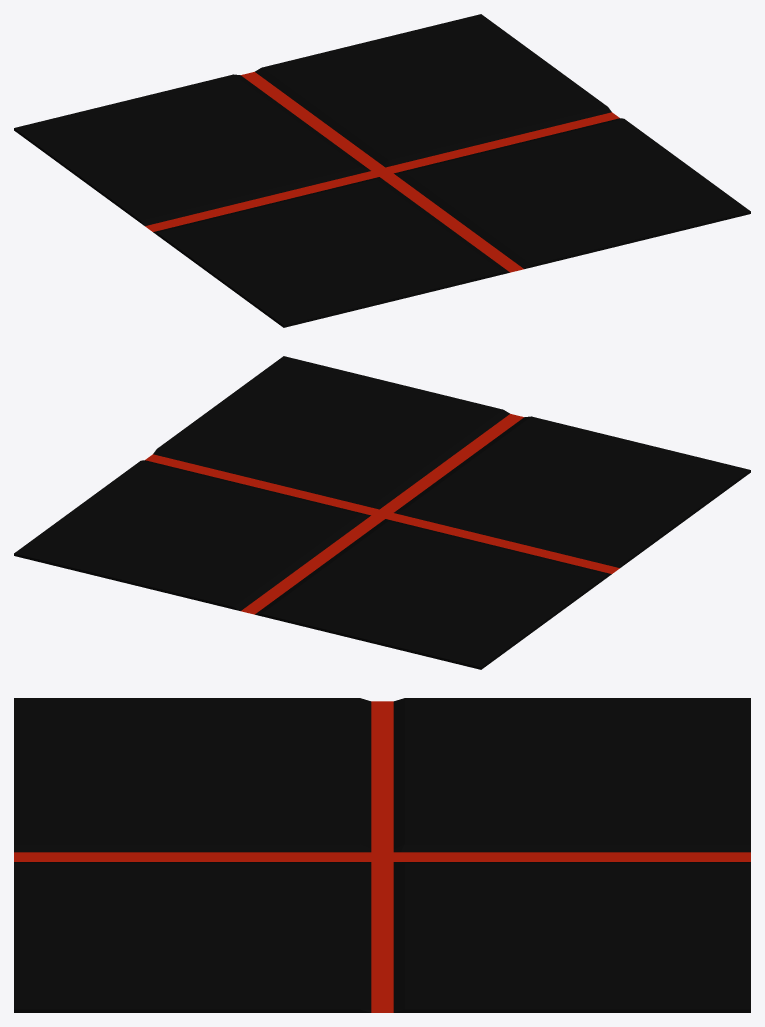
The model's file is S_assete_basement_floor_2.fbx.
The picture shows the model from 3 angles, top to bottom: view 1: azimuth 30°, elevation 25°; view 2: azimuth 150°, elevation 25°; view 3: azimuth 270°, elevation 25°; orthographic projection. The views are drawn at different scales.
Parts seen in each view (by area): view 1: Plane141; view 2: Plane141; view 3: Plane141.
Part boxes in pixels (x1,y1,x2,y2): Plane141: (14,14,750,327); Plane141: (14,356,750,669); Plane141: (14,698,750,1012).
Bounding box in the file's own units: 200 × 1 × 200.
